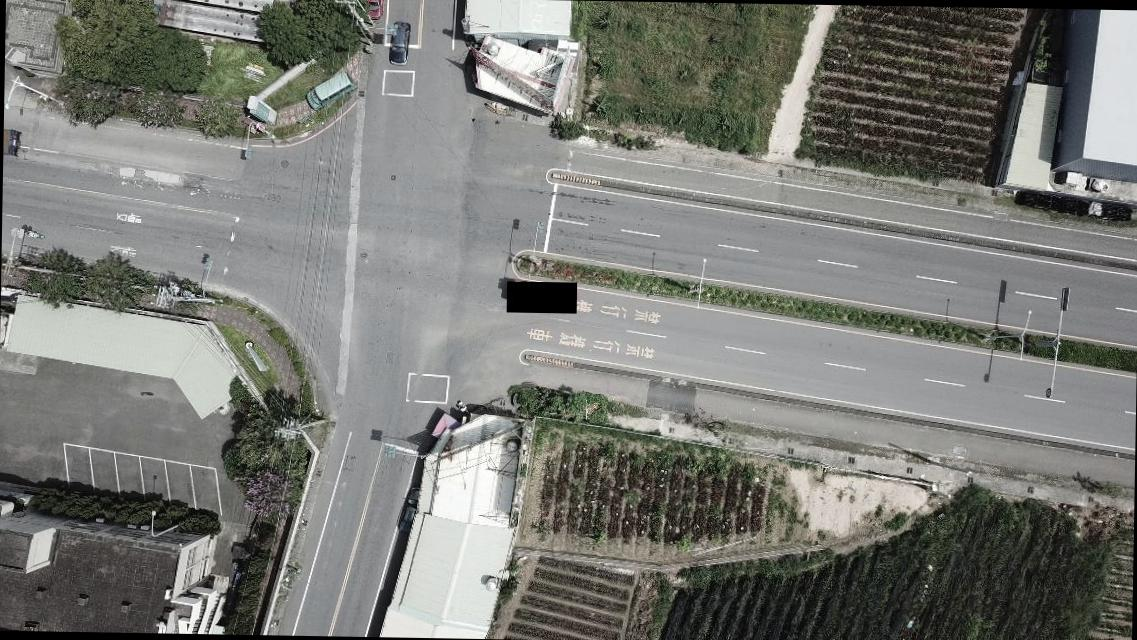vehicle: (303, 68, 354, 112), (395, 485, 423, 533), (389, 22, 412, 63), (360, 0, 384, 18)
